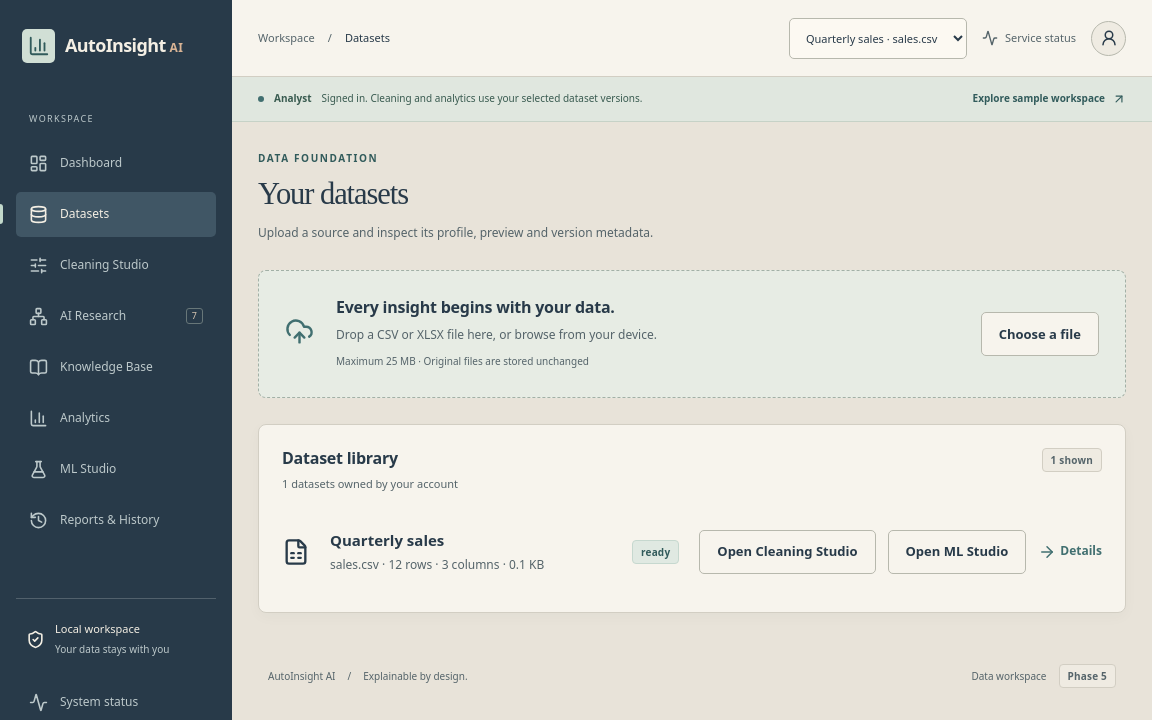
Test: workspace routes › opens valid owned datasets from the library, sidebar and dataset selector
This screenshot has width=1152, height=720.
Expected: the dropdown named "Dataset context" shows "Quarterly sales · sales.csv", [789,18,967,58]
Click the link "Cleaning Studio".
click(89, 265)  # box [29,256,149,275]
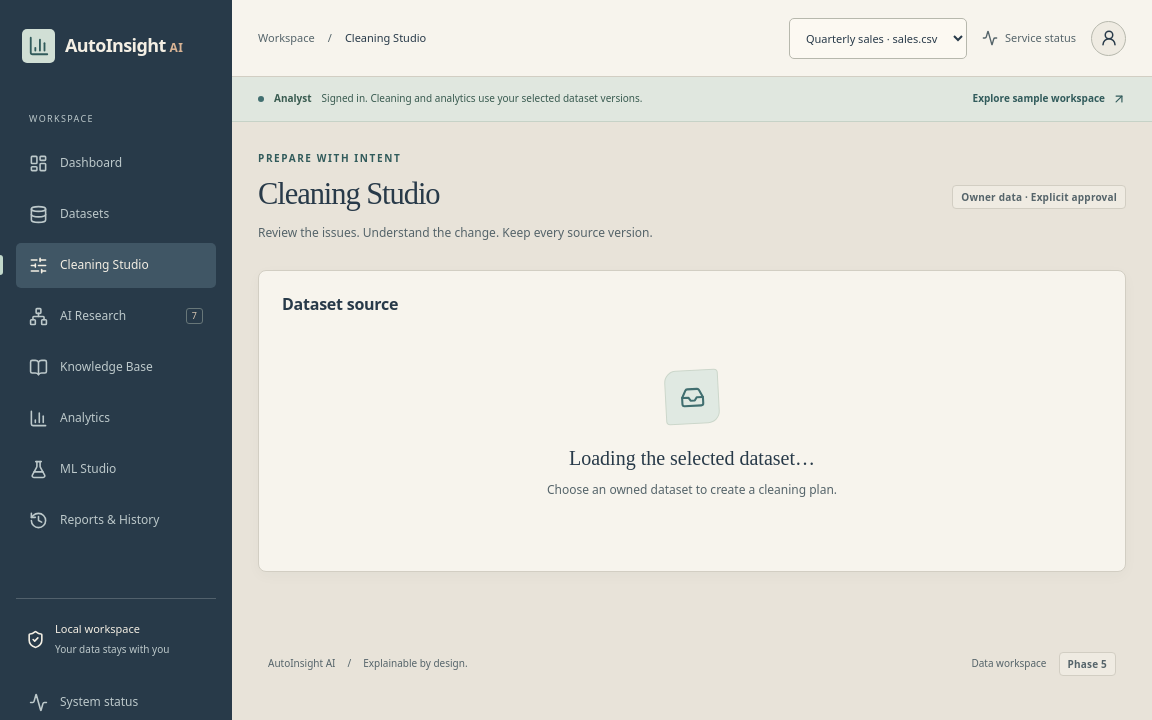
Expected: the heading "Cleaning Studio" is shown, [258,176,440,210]
Click the link "Analytics".
click(70, 418)  # box [29,409,110,428]
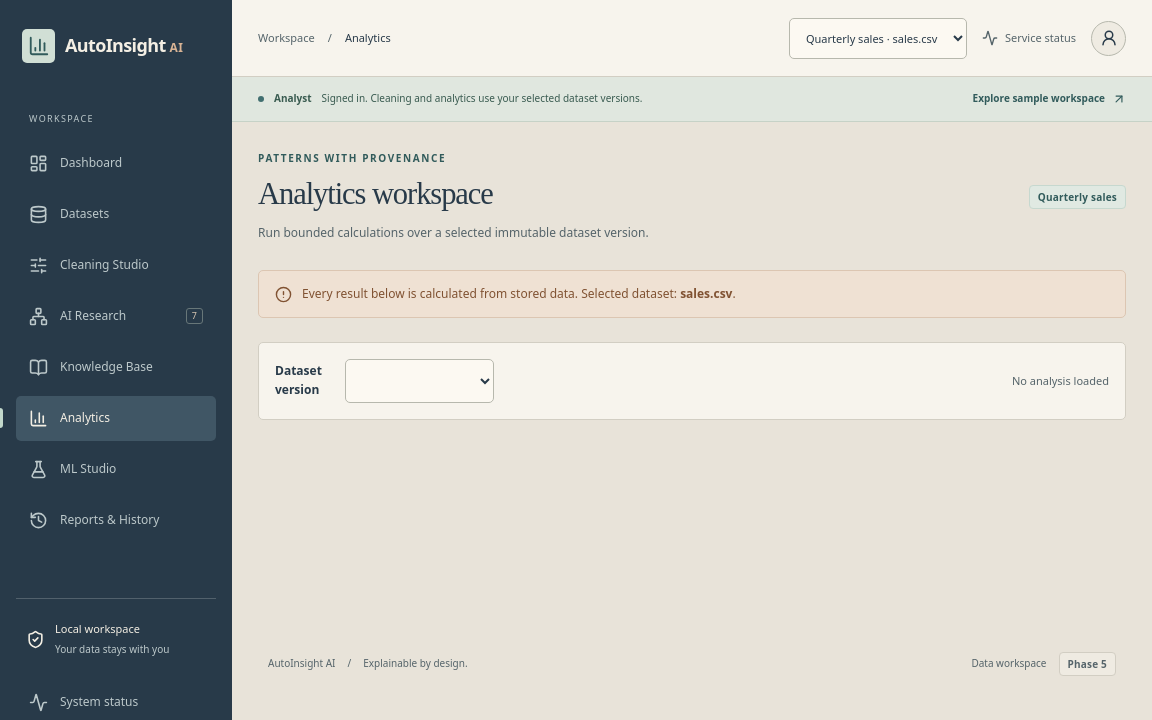
Expected: the dropdown named "Dataset context" shows "Quarterly sales · sales.csv", [789,18,967,58]
Expected: the heading "Analytics workspace" is shown, [258,176,493,210]
